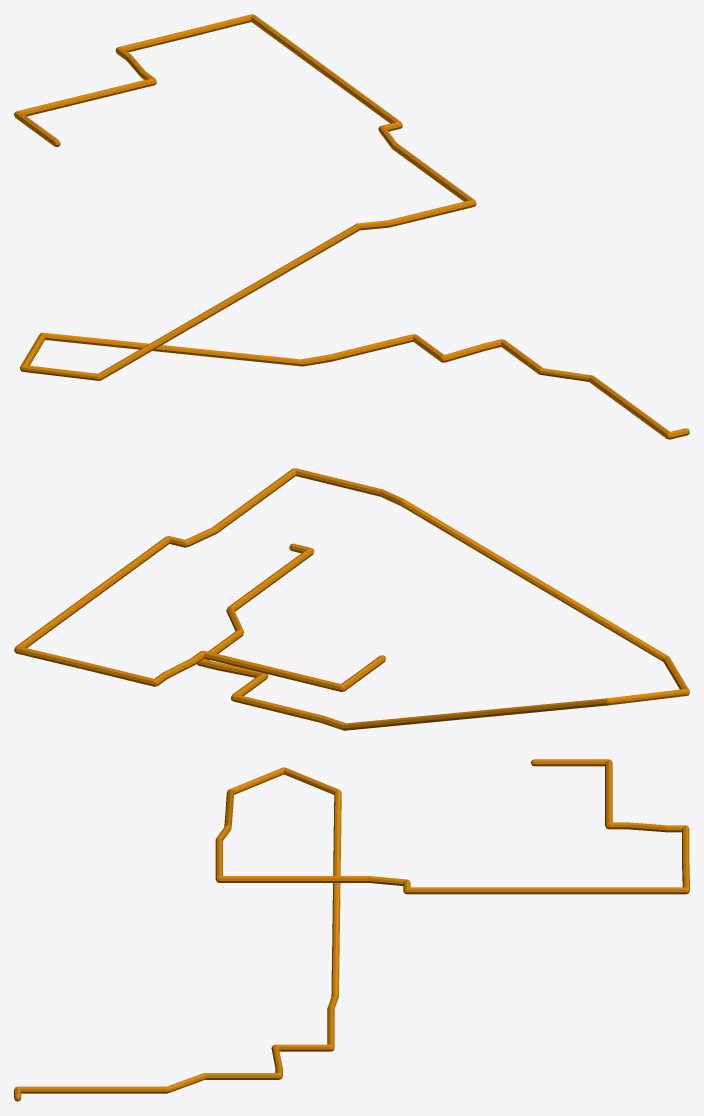
The picture shows the model from 3 angles, top to bottom: view 1: azimuth 30°, elevation 25°; view 2: azimuth 150°, elevation 25°; view 3: azimuth 270°, elevation 25°; orthographic projection. The views are drawn at different scales.
Size of the model in its own units: 1563 by 520 by 1815.
